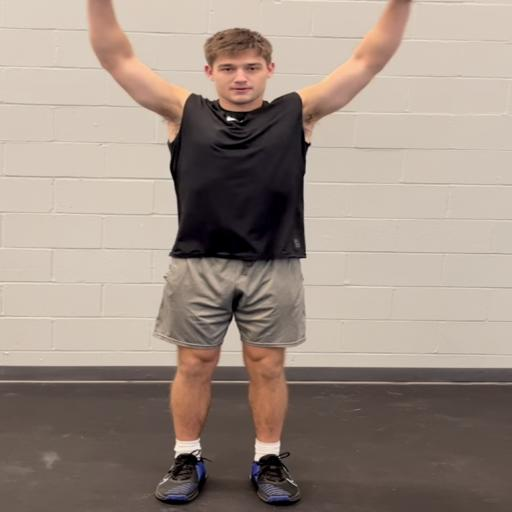Normal_DumbbellBicepCurls: (70, 1, 421, 511)
Normal_JumpingJacks: (59, 2, 434, 502)
